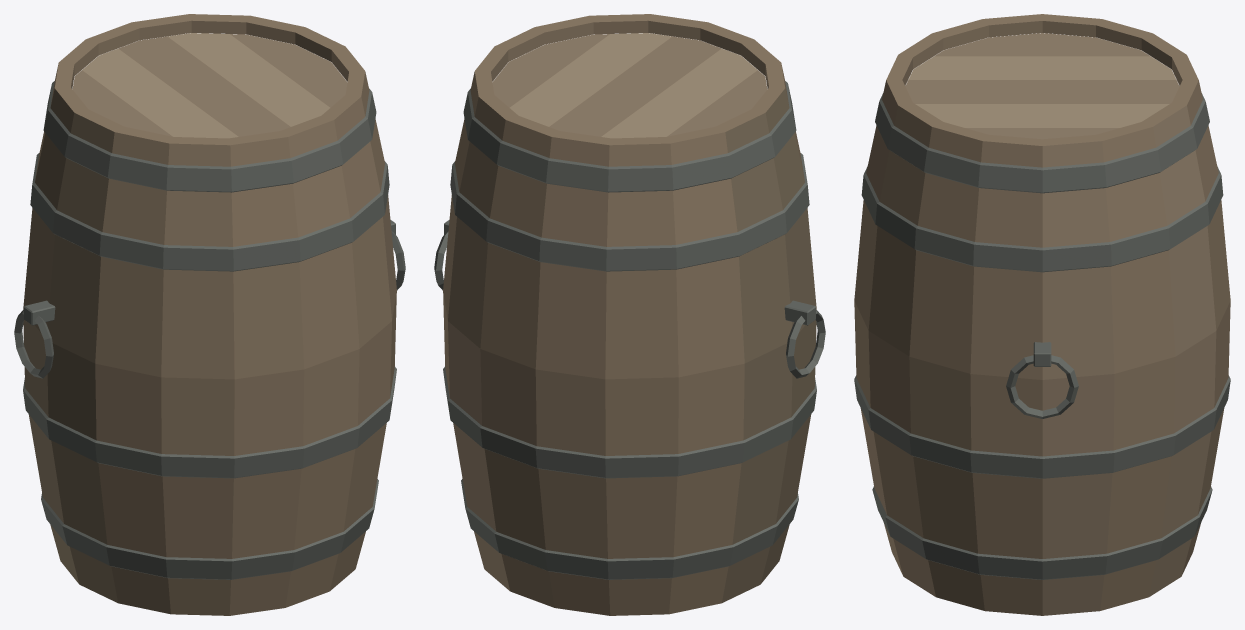
The model's file is env_barrel_v11_iron_handles.glb.
The picture shows the model from 3 angles, left to right: view 1: azimuth 30°, elevation 25°; view 2: azimuth 150°, elevation 25°; view 3: azimuth 270°, elevation 25°; orthographic projection.
Visible parts, largest first — view 1: material_0, material_3, material_2, material_5, material_4; view 2: material_0, material_3, material_2, material_5, material_4; view 3: material_0, material_5, material_3, material_4.
Part boxes in pixels (x1,y1,x2,y2): material_0: [35, 14, 396, 615]; material_3: [14, 81, 405, 579]; material_2: [23, 88, 117, 602]; material_5: [72, 34, 347, 136]; material_4: [82, 33, 329, 138]; material_0: [443, 14, 804, 615]; material_3: [434, 81, 825, 579]; material_2: [722, 88, 816, 602]; material_5: [448, 34, 767, 590]; material_4: [510, 33, 757, 138]; material_0: [854, 14, 1230, 615]; material_5: [905, 33, 1216, 615]; material_3: [854, 93, 1230, 579]; material_4: [908, 56, 1176, 127].
Size of the model in its own units: 0.726 by 0.9 by 0.6505.
